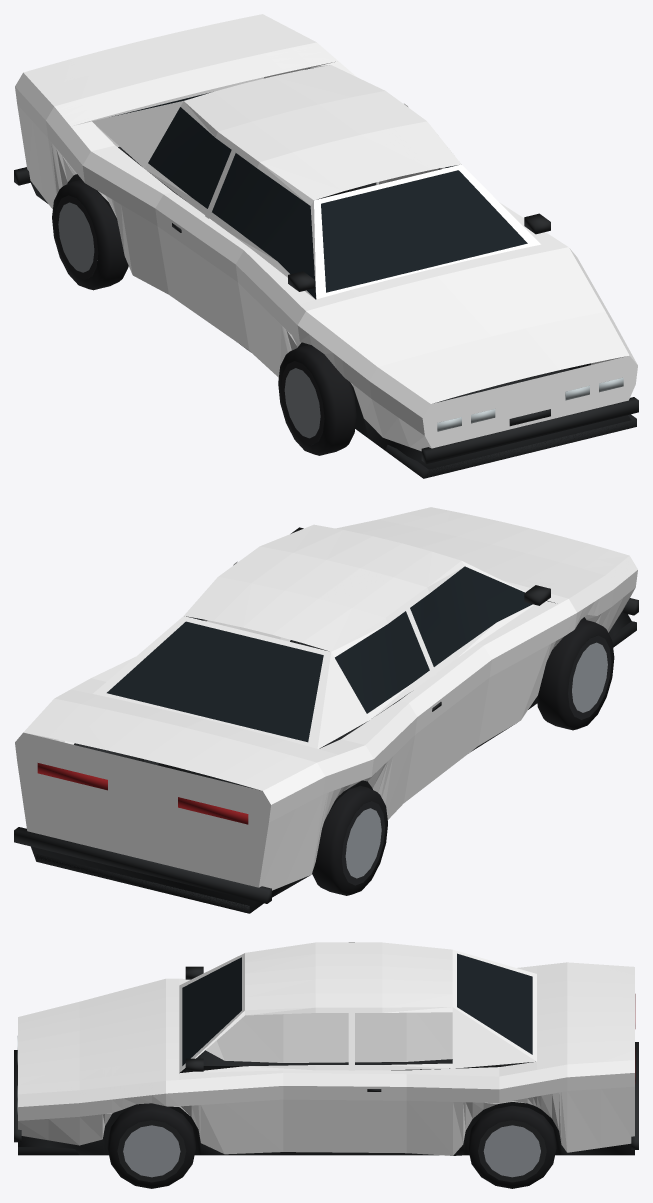
The model's file is lindauer_laminar.glb.
The picture shows the model from 3 angles, top to bottom: view 1: azimuth 30°, elevation 25°; view 2: azimuth 150°, elevation 25°; view 3: azimuth 270°, elevation 25°; orthographic projection. The views are drawn at different scales.
Visible parts, largest first — view 1: Body_Paint, Body_Details, Mount_FrontLeft_Wheel_Details, Mount_RearLeft_Wheel_Details; view 2: Body_Paint, Body_Details, Mount_FrontLeft_Wheel_Details, Mount_RearLeft_Wheel_Details; view 3: Body_Paint, Body_Details, Mount_FrontRight_Wheel_Details, Mount_RearRight_Wheel_Details.
Boxes of the visible parts, x1,y1,x2,y2 form: Body_Paint: [15, 14, 637, 451]; Body_Details: [14, 68, 638, 478]; Mount_FrontLeft_Wheel_Details: [278, 344, 356, 455]; Mount_RearLeft_Wheel_Details: [52, 179, 128, 290]; Body_Paint: [15, 507, 637, 890]; Body_Details: [14, 527, 638, 913]; Mount_FrontLeft_Wheel_Details: [536, 619, 614, 730]; Mount_RearLeft_Wheel_Details: [312, 785, 387, 895]; Body_Paint: [18, 942, 634, 1155]; Body_Details: [14, 953, 638, 1155]; Mount_FrontRight_Wheel_Details: [107, 1103, 195, 1188]; Mount_RearRight_Wheel_Details: [468, 1105, 556, 1188].
Bounding box in the file's own units: 1.91 × 1.28 × 4.45.
2 materials, 1 textured.
